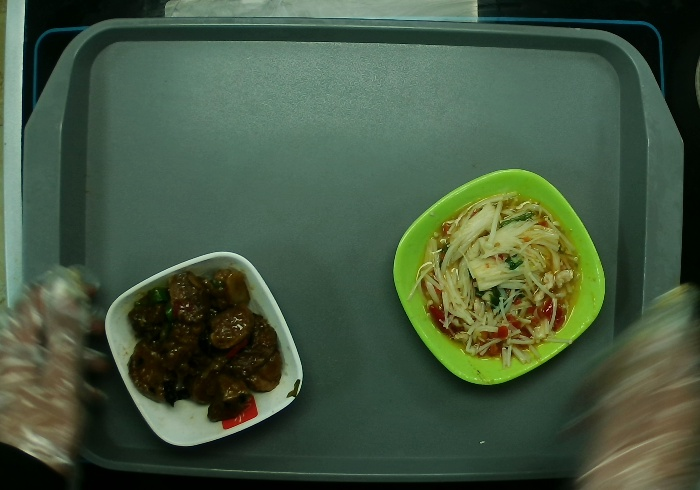SHKJ-Bai_Se_Xiao_Fang_Die: (104, 252, 304, 446)
SHKJ-Lv_Se_Cai_Die: (392, 168, 606, 385)
